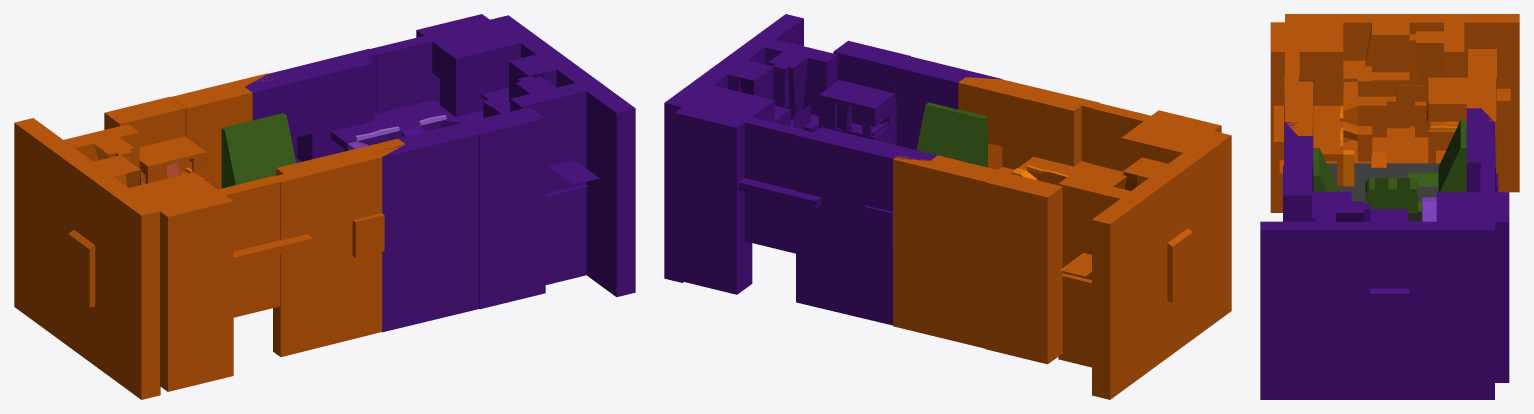
Rendered from Big Bass v4.glb.
3 views of the same model, side by side, from view 1: azimuth 30°, elevation 25°; view 2: azimuth 150°, elevation 25°; view 3: azimuth 270°, elevation 25° (orthographic). The views are drawn at different scales.
Visible parts, largest first — view 1: Cube.009, Cube.010; view 2: Cube.009, Cube.011; view 3: Cube.009, Cube.010, Cube.011.
Boxes of the visible parts, x1,y1,x2,y2 form: Cube.009: (14,14,635,399); Cube.010: (221,113,295,188); Cube.009: (664,14,1231,399); Cube.011: (916,102,987,167); Cube.009: (1260,14,1519,399); Cube.010: (1438,120,1466,192); Cube.011: (1313,148,1339,191).
Size of the model in its own units: 159 by 56.93 by 78.92.
2 materials, 2 textured.
